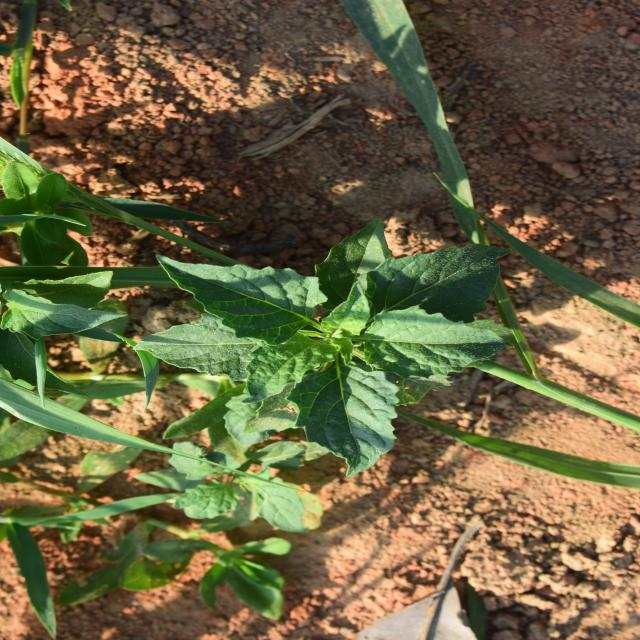Black_nightshade: (194, 156, 413, 495)
